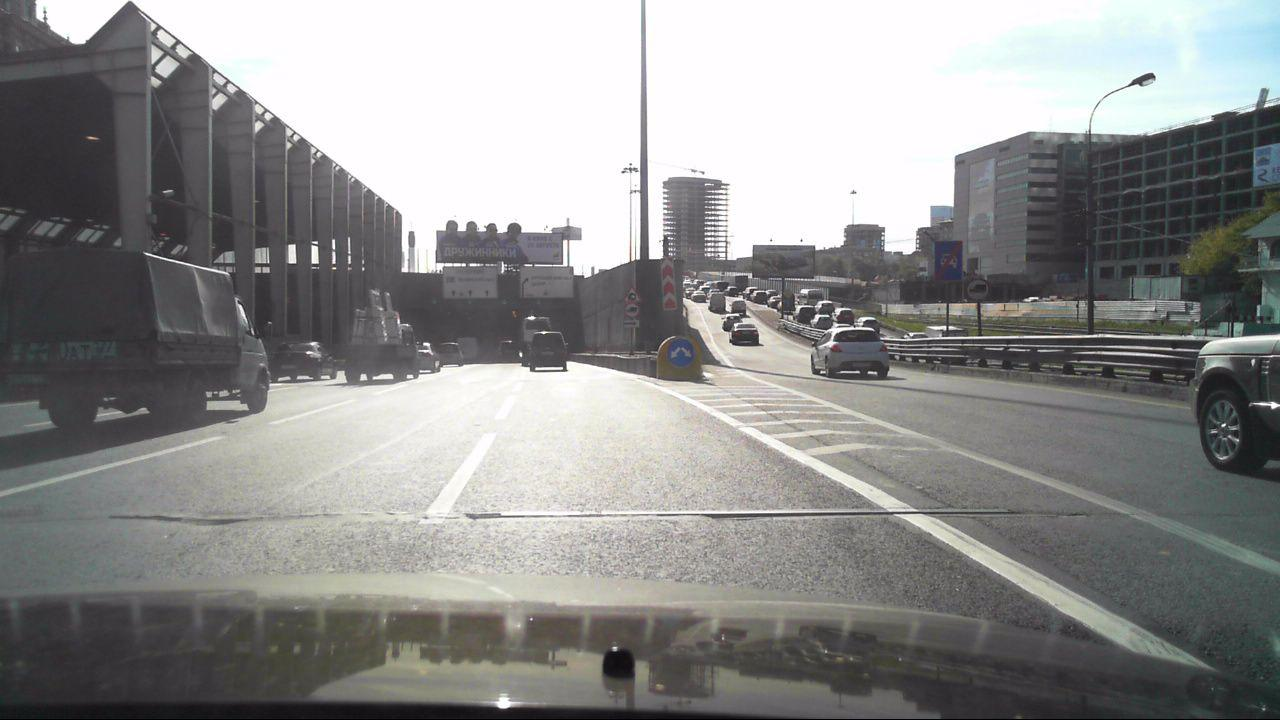1_31: (623, 283, 641, 304)
3_4: (625, 303, 641, 317)
4_2_3: (666, 337, 696, 366)
4_3: (967, 277, 990, 303)
5_4: (934, 241, 963, 280)
6_9_1: (442, 264, 500, 300), (521, 265, 577, 298)
8_22_3: (660, 255, 680, 312)
8_3_1: (623, 319, 640, 327)
